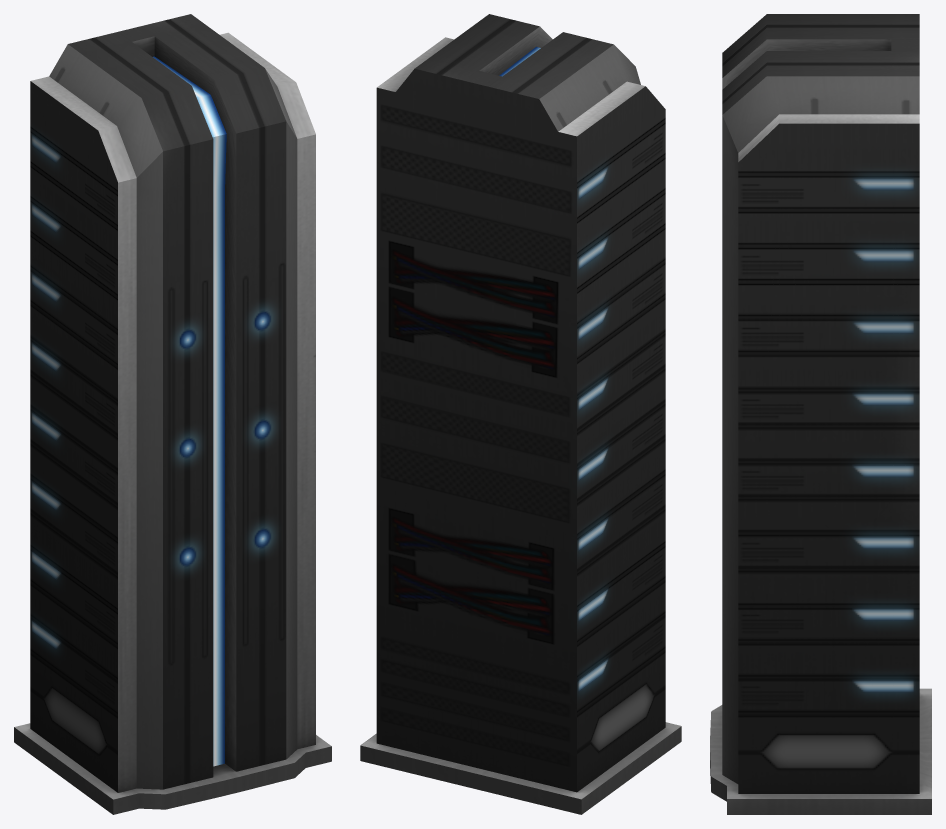
The model's file is Server.fbx.
The picture shows the model from 3 angles, left to right: view 1: azimuth 30°, elevation 25°; view 2: azimuth 150°, elevation 25°; view 3: azimuth 270°, elevation 25°; orthographic projection. The views are drawn at different scales.
Visible parts, largest first — view 1: Server; view 2: Server; view 3: Server.
Boxes of the visible parts, left/top/right/bottom form: Server: left=14, top=14, right=331, bottom=814; Server: left=360, top=14, right=681, bottom=814; Server: left=710, top=14, right=931, bottom=814.
Size of the model in its own units: 1.32 by 4 by 1.13.
1 material, 1 textured.
